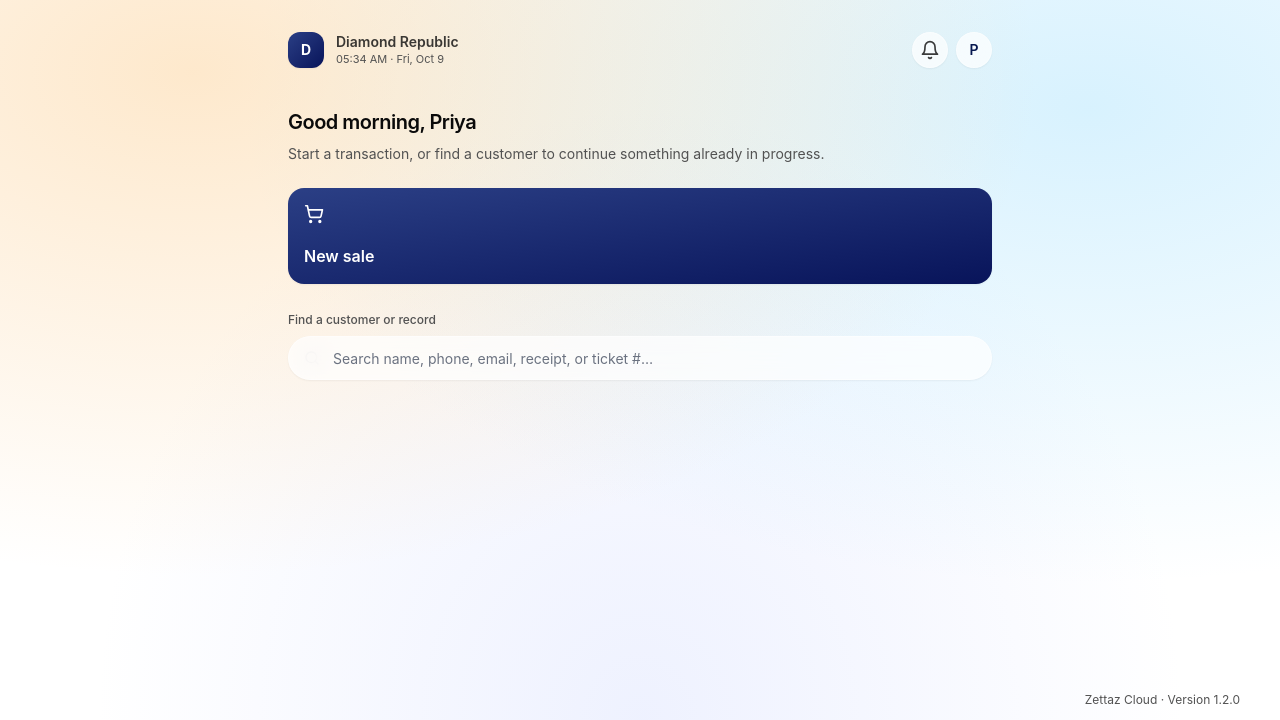
Test: SalesHubPage › hides the Dashboard link in the user menu for a cashier without dashboard.view
Click the button named "User menu": (974,50) [956,32,992,68]
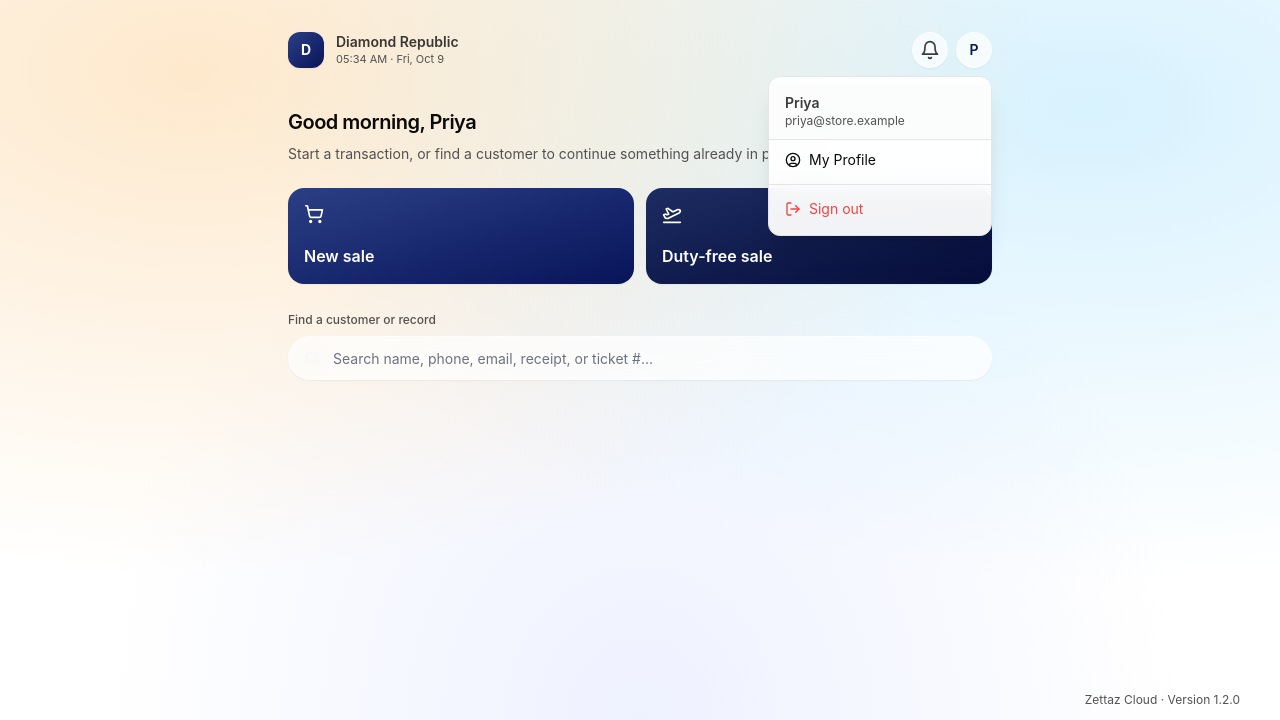
Check: the button "Sign out" is shown, box [769,189,991,229]
